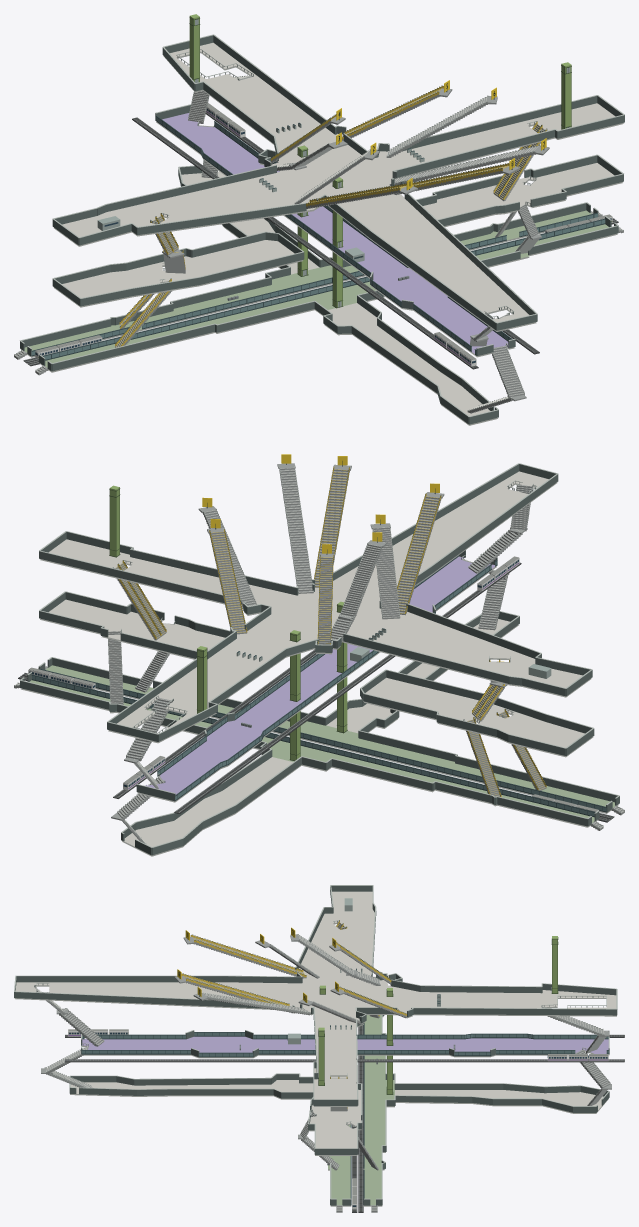
File: gunja.glb
The picture shows the model from 3 angles, top to bottom: view 1: azimuth 30°, elevation 25°; view 2: azimuth 150°, elevation 25°; view 3: azimuth 270°, elevation 25°; orthographic projection. The views are drawn at different scales.
Visible parts, largest first — view 1: B1_Concourse, B1 · Enclosure walls, B3 · Enclosure walls, B2_Line5_Island_Platform, B2 · Enclosure walls, B3 · Platform track barriers, B2_Line7_Junggok_Concourse, B2_Line7_Children_Concourse, B3_Line7_North_Side_Platform, B3_Line7_South_Side_Platform, B3_South_Transfer_Passage, B2 · Platform track barriers (+16 smaller); view 2: B1_Concourse, B1 · Enclosure walls, B3 · Enclosure walls, B2_Line5_Island_Platform, B2 · Enclosure walls, B3 · Platform track barriers, B2_Line7_Junggok_Concourse, B3_Line7_South_Side_Platform, B3_North_Transfer_Passage, B2_Line7_Children_Concourse, B3_Line7_North_Side_Platform, B2 · Platform track barriers (+25 smaller); view 3: B1_Concourse, B1 · Enclosure walls, B3 · Enclosure walls, B2_Line5_Island_Platform, B2 · Platform track barriers, B3_Line7_North_Side_Platform, B3_North_Transfer_Passage, B2_Line7_Children_Concourse, B2 · Track 2, B3_South_Transfer_Passage, B2 · Enclosure walls, Exit 1 (+11 smaller).
Boxes of the visible parts, left/top/right/bottom form: B1_Concourse: left=54, top=42, right=623, bottom=331; B1 · Enclosure walls: left=52, top=34, right=624, bottom=330; B3 · Enclosure walls: left=20, top=165, right=618, bottom=424; B2_Line5_Island_Platform: left=156, top=113, right=514, bottom=357; B2 · Enclosure walls: left=52, top=104, right=623, bottom=355; B3 · Platform track barriers: left=31, top=213, right=605, bottom=360; B2_Line7_Junggok_Concourse: left=53, top=240, right=302, bottom=307; B2_Line7_Children_Concourse: left=423, top=163, right=622, bottom=226; B3_Line7_North_Side_Platform: left=21, top=210, right=591, bottom=357; B3_Line7_South_Side_Platform: left=40, top=224, right=617, bottom=372; B3_South_Transfer_Passage: left=320, top=303, right=497, bottom=425; B2 · Platform track barriers: left=155, top=115, right=512, bottom=355; B1_Concourse: left=40, top=471, right=591, bottom=743; B1 · Enclosure walls: left=39, top=463, right=592, bottom=741; B3 · Enclosure walls: left=20, top=611, right=619, bottom=855; B2_Line5_Island_Platform: left=137, top=556, right=496, bottom=802; B2 · Enclosure walls: left=39, top=550, right=594, bottom=801; B3 · Platform track barriers: left=32, top=669, right=606, bottom=817; B2_Line7_Junggok_Concourse: left=361, top=677, right=593, bottom=757; B3_Line7_South_Side_Platform: left=45, top=665, right=618, bottom=813; B3_North_Transfer_Passage: left=122, top=757, right=301, bottom=856; B2_Line7_Children_Concourse: left=40, top=599, right=225, bottom=659; B3_Line7_North_Side_Platform: left=21, top=680, right=598, bottom=827; B2 · Platform track barriers: left=136, top=555, right=497, bottom=800; B1_Concourse: left=14, top=891, right=616, bottom=1106; B1 · Enclosure walls: left=14, top=885, right=617, bottom=1105; B3 · Enclosure walls: left=69, top=972, right=609, bottom=1205; B2_Line5_Island_Platform: left=81, top=1036, right=609, bottom=1058; B2 · Platform track barriers: left=81, top=1032, right=609, bottom=1057; B3_Line7_North_Side_Platform: left=364, top=978, right=394, bottom=1206; B3_North_Transfer_Passage: left=395, top=1090, right=608, bottom=1113; B2_Line7_Children_Concourse: left=308, top=1068, right=361, bottom=1155; B2 · Track 2: left=65, top=1059, right=624, bottom=1062; B3_South_Transfer_Passage: left=70, top=1080, right=313, bottom=1099; B2 · Enclosure walls: left=81, top=1023, right=609, bottom=1154; Exit 1: left=190, top=934, right=306, bottom=978.
Size of the model in its own units: 216 by 67.98 by 237.
